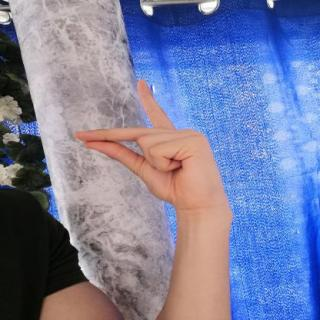TAA: (64, 72, 235, 214)
